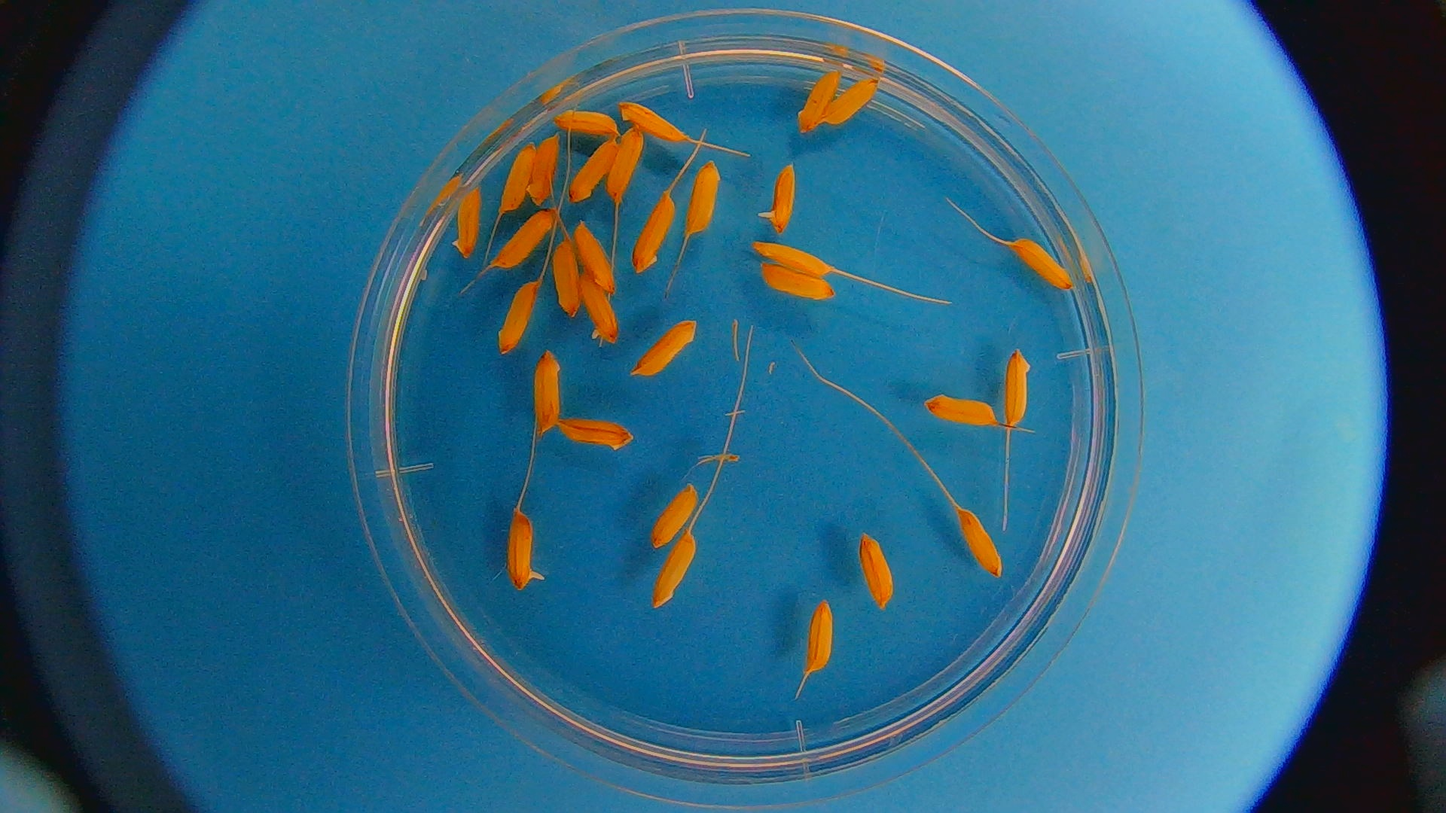no: (488, 278, 548, 362), (999, 234, 1078, 295), (632, 318, 702, 384), (647, 527, 703, 606), (487, 206, 552, 274), (952, 503, 1007, 579), (630, 192, 678, 276), (601, 126, 650, 203), (795, 62, 843, 140), (572, 135, 623, 208), (853, 528, 897, 609), (818, 73, 884, 126), (747, 239, 839, 277), (651, 483, 699, 555), (758, 259, 837, 302), (620, 97, 691, 144), (922, 391, 999, 434), (530, 347, 568, 434), (569, 221, 616, 291), (575, 275, 621, 346), (682, 158, 721, 240), (548, 239, 586, 318), (556, 416, 637, 453), (521, 135, 563, 206), (448, 186, 488, 260), (802, 596, 839, 675), (1001, 346, 1034, 428), (546, 105, 623, 139), (496, 141, 532, 213)
yes: (501, 512, 534, 596), (767, 163, 795, 235)
